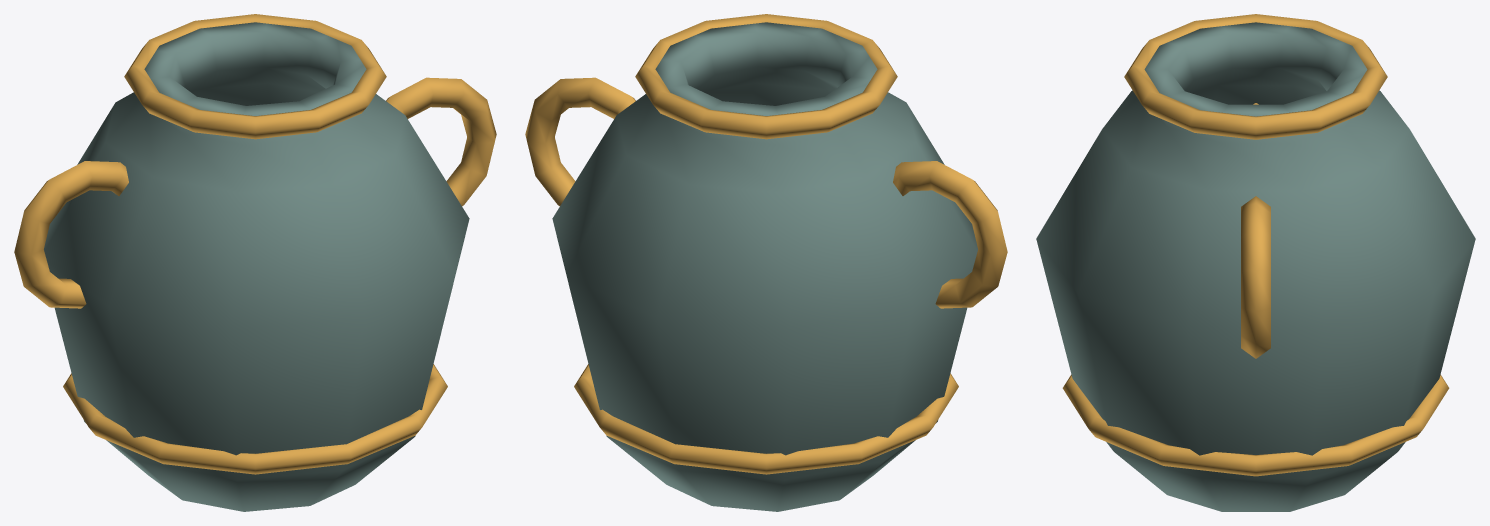
File: treasure-urn.glb
The picture shows the model from 3 angles, left to right: view 1: azimuth 30°, elevation 25°; view 2: azimuth 150°, elevation 25°; view 3: azimuth 270°, elevation 25°; orthographic projection.
Visible parts, largest first — view 1: hollow-urn, neck-band, lower-band, handle--1, handle-1; view 2: hollow-urn, neck-band, lower-band, handle--1, handle-1; view 3: hollow-urn, neck-band, lower-band, handle-1.
Part boxes in pixels (left/top/right/bottom): hollow-urn: left=44, top=22, right=469, bottom=511; neck-band: left=124, top=14, right=386, bottom=139; lower-band: left=63, top=364, right=447, bottom=474; handle--1: left=14, top=161, right=128, bottom=308; handle-1: left=386, top=77, right=496, bottom=206; hollow-urn: left=552, top=22, right=977, bottom=511; neck-band: left=635, top=14, right=897, bottom=139; lower-band: left=574, top=364, right=958, bottom=474; handle--1: left=893, top=161, right=1007, bottom=308; handle-1: left=525, top=77, right=635, bottom=206; hollow-urn: left=1036, top=22, right=1475, bottom=511; neck-band: left=1124, top=14, right=1387, bottom=139; lower-band: left=1062, top=374, right=1449, bottom=476; handle-1: left=1241, top=196, right=1270, bottom=358.
Bounding box in the file's own units: 1.02 × 0.8069 × 0.8.
